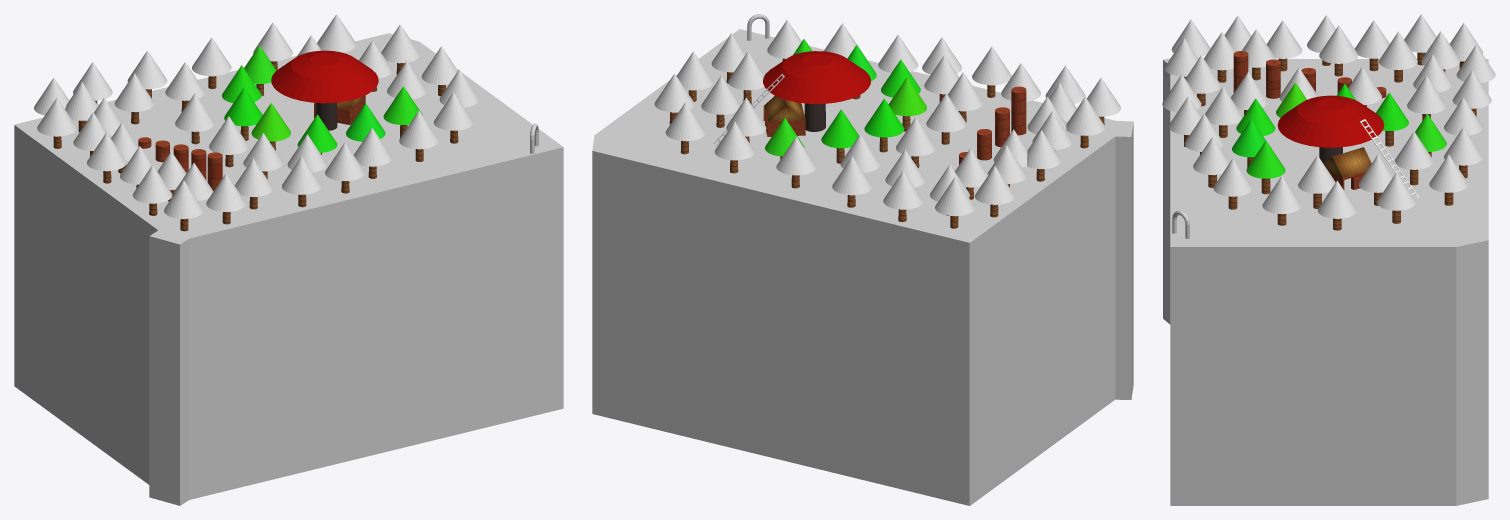
Rendered from TrueForetcubique.fbx.
3 views of the same model, side by side, from view 1: azimuth 30°, elevation 25°; view 2: azimuth 150°, elevation 25°; view 3: azimuth 270°, elevation 25° (orthographic).
Visible parts, largest first — view 1: Cube.002, Cone, Cone.016, Cone.037, Cone.023, Cone.038, Cone.033, Cone.035, Cone.020, Cone.022, Cone.028, Cone.030 (+30 smaller); view 2: Cube.002, Cone, Cone.019, Cone.008, Cone.012, Cone.028, Cone.033, Cone.027, Cone.026, Cone.031, Cone.032, Cone.037 (+30 smaller); view 3: Cube.002, Cone, Cube.001, Cone.024, Cone.025, Cone.010, Cone.026, Cone.011, Cone.023, Cone.013, Cone.003, Cone.029 (+35 smaller).
Part boxes in pixels (bbox=[...]): Cube.002: bbox=[14, 33, 563, 505]; Cone: bbox=[271, 50, 378, 103]; Cone.016: bbox=[175, 93, 214, 131]; Cone.037: bbox=[132, 165, 172, 203]; Cone.023: bbox=[433, 92, 473, 130]; Cone.038: bbox=[206, 173, 245, 211]; Cone.033: bbox=[37, 98, 76, 136]; Cone.035: bbox=[87, 132, 126, 171]; Cone.020: bbox=[164, 180, 203, 218]; Cone.022: bbox=[399, 110, 438, 149]; Cone.028: bbox=[192, 37, 231, 76]; Cone.030: bbox=[114, 73, 154, 111]; Cube.002: bbox=[592, 29, 1133, 505]; Cone: bbox=[763, 51, 870, 103]; Cone.019: bbox=[832, 156, 872, 195]; Cone.008: bbox=[864, 98, 904, 137]; Cone.012: bbox=[926, 93, 966, 132]; Cone.028: bbox=[776, 136, 816, 175]; Cone.033: bbox=[975, 166, 1014, 204]; Cone.027: bbox=[714, 121, 754, 160]; Cone.026: bbox=[665, 102, 705, 141]; Cone.031: bbox=[883, 170, 922, 209]; Cone.032: bbox=[935, 177, 974, 216]; Cone.037: bbox=[1066, 97, 1105, 135]; Cube.002: bbox=[1163, 57, 1488, 505]; Cone: bbox=[1277, 95, 1384, 147]; Cube.001: bbox=[1323, 147, 1371, 178]; Cone.024: bbox=[1317, 180, 1356, 218]; Cone.025: bbox=[1377, 172, 1415, 210]; Cone.010: bbox=[1246, 140, 1285, 178]; Cone.026: bbox=[1429, 154, 1468, 192]; Cone.011: bbox=[1379, 31, 1417, 69]; Cone.023: bbox=[1213, 158, 1252, 196]; Cone.013: bbox=[1319, 25, 1358, 63]; Cone.003: bbox=[1394, 131, 1433, 169]; Cone.029: bbox=[1407, 75, 1445, 114].
Bounding box in the file's own units: 5897 × 4608 × 4279.
